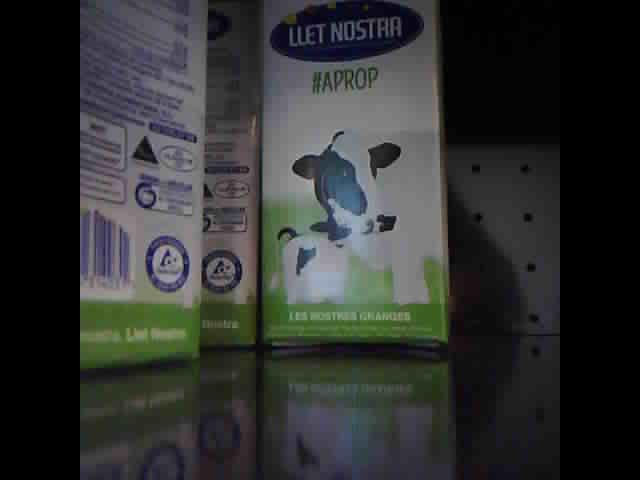leche: (262, 5, 448, 346), (82, 3, 208, 374), (197, 3, 262, 351)
